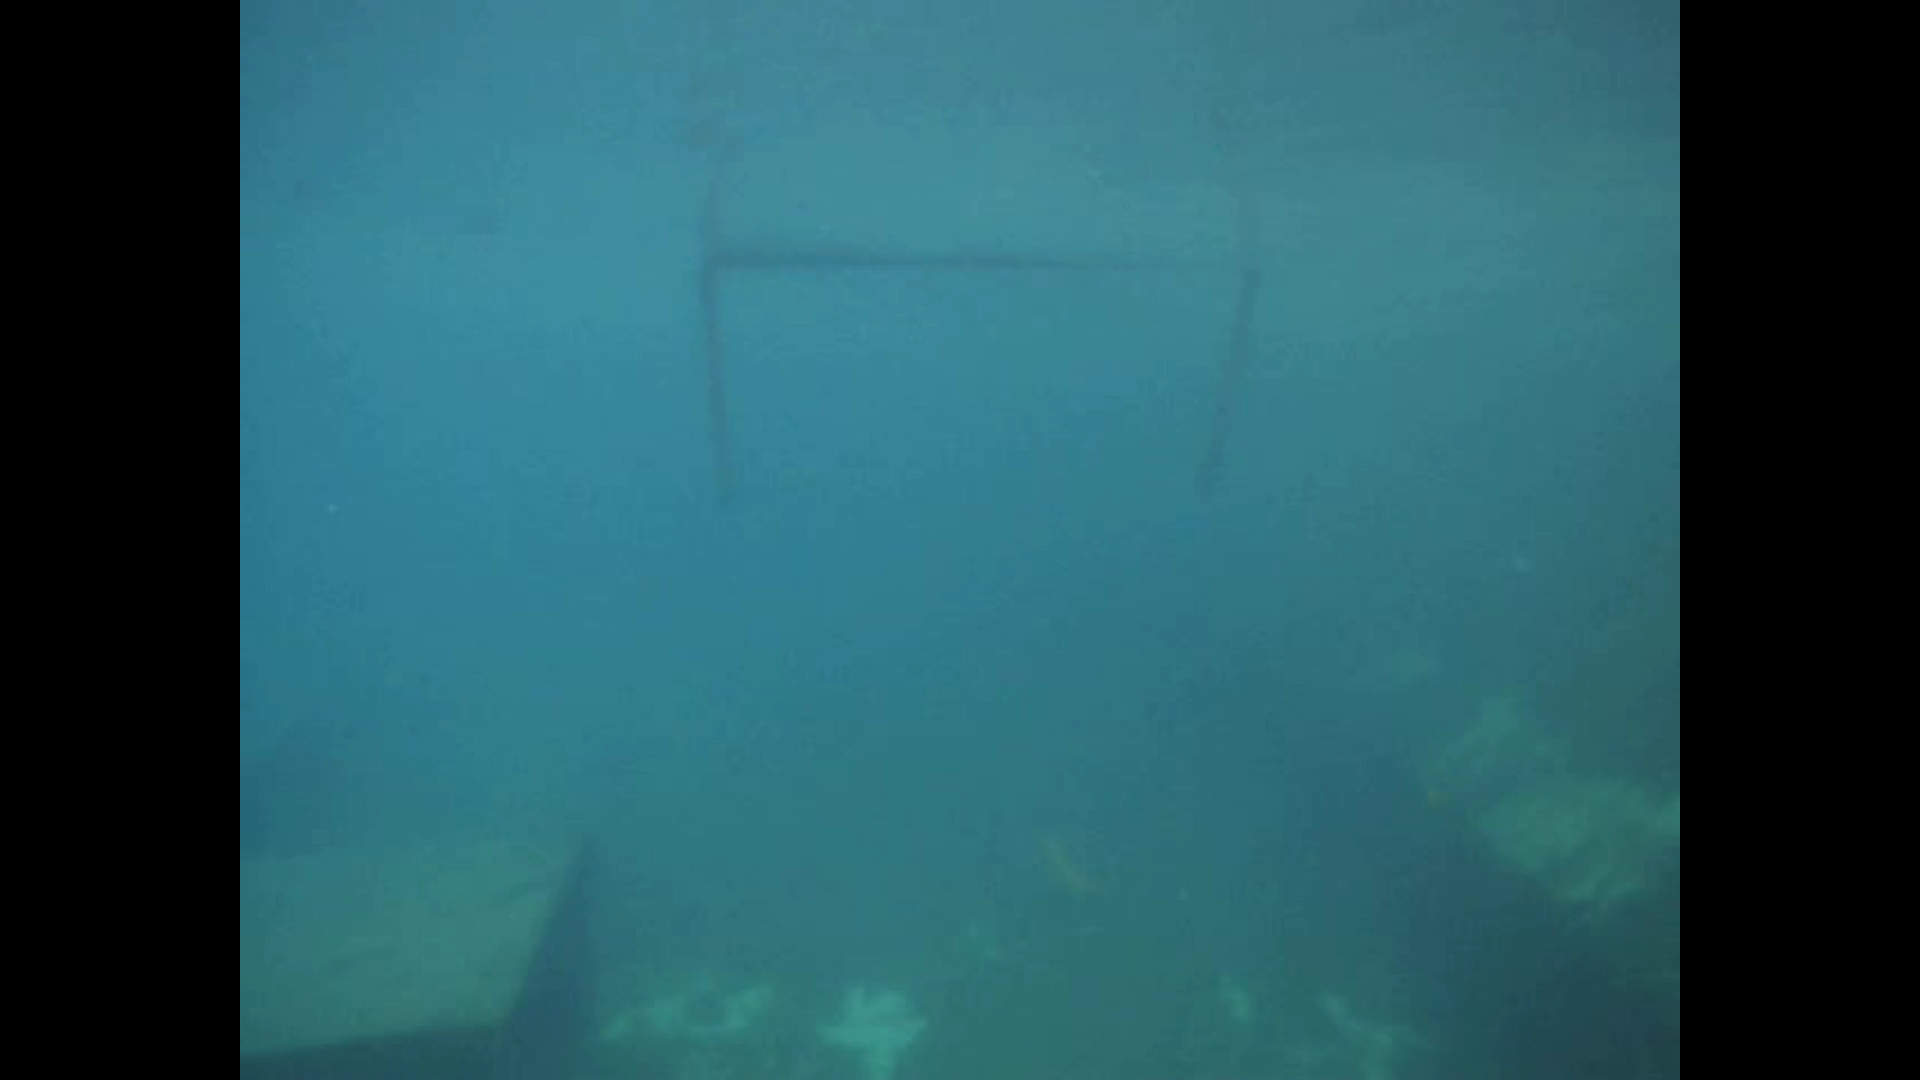gate: (699, 251, 1263, 521)
